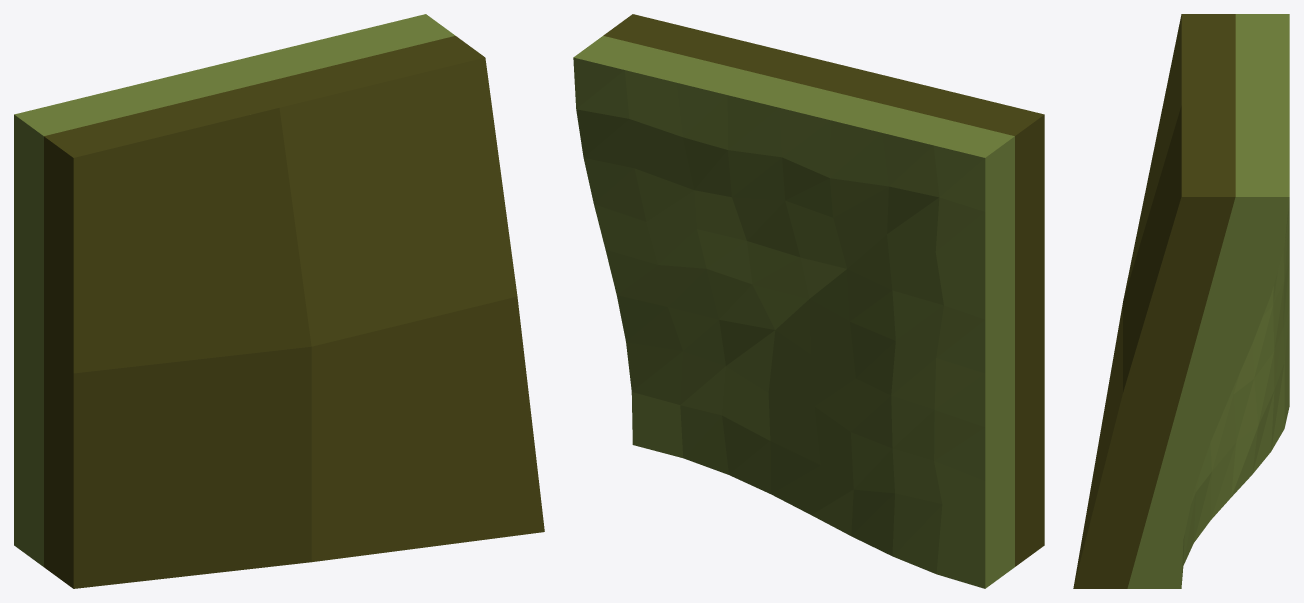
The model's file is Slope_Down_Corner.fbx.
3 views of the same model, side by side, from view 1: azimuth 30°, elevation 25°; view 2: azimuth 150°, elevation 25°; view 3: azimuth 270°, elevation 25° (orthographic). The views are drawn at different scales.
Parts seen in each view (by area): view 1: Slope_Down_Corner; view 2: Slope_Down_Corner; view 3: Slope_Down_Corner.
Boxes of the visible parts, x1,y1,x2,y2 form: Slope_Down_Corner: (14,14,544,588); Slope_Down_Corner: (573,14,1044,588); Slope_Down_Corner: (1073,14,1289,588).
Bounding box in the file's own units: 400 × 400 × 200.
